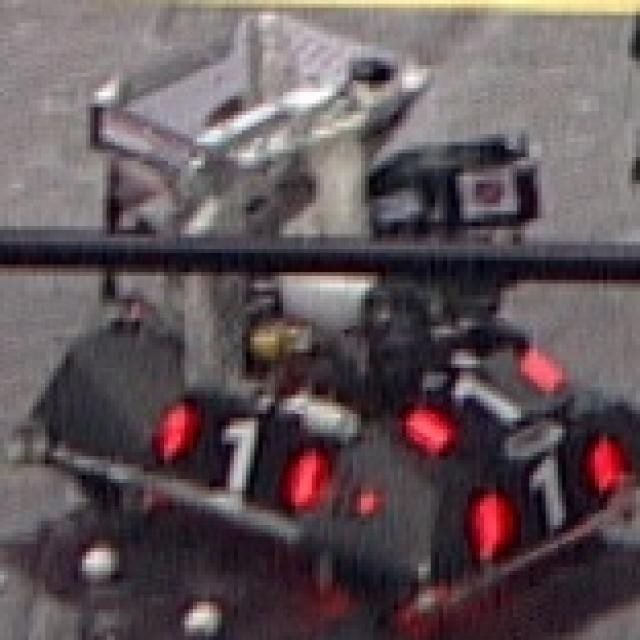R1: (468, 433, 624, 563), (152, 395, 320, 506), (402, 341, 558, 448)
